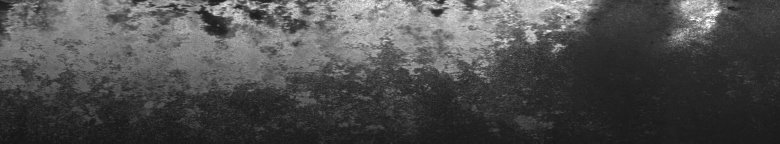kb: (4, 4, 596, 131)
